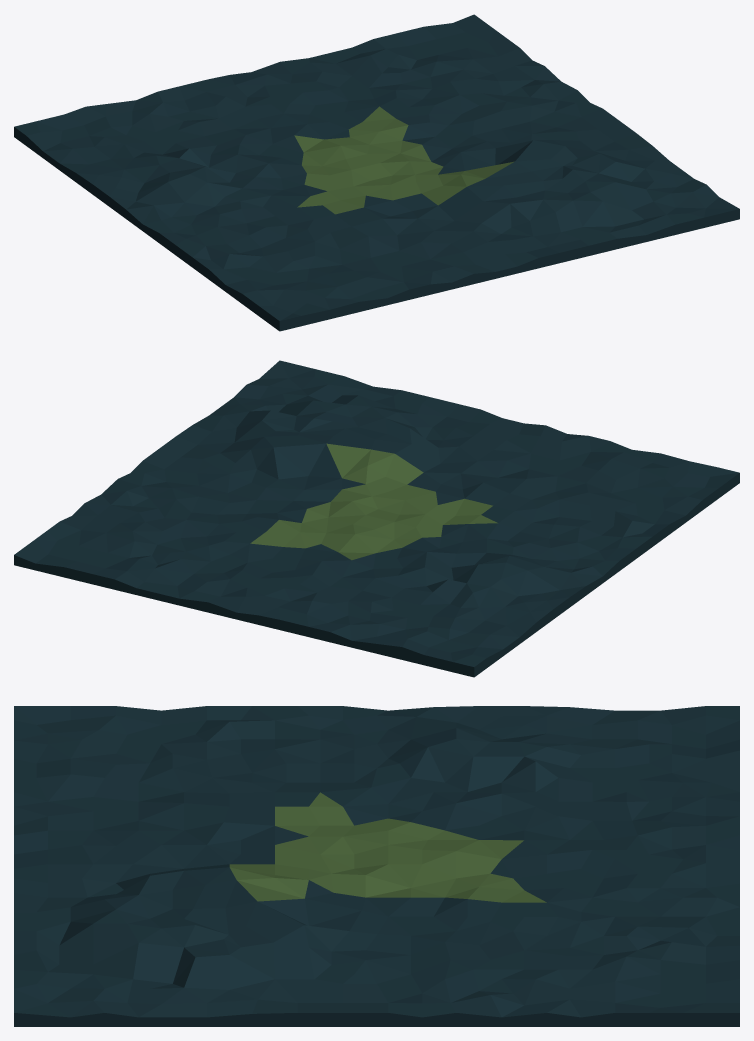
File: Floor.fbx
The picture shows the model from 3 angles, top to bottom: view 1: azimuth 30°, elevation 25°; view 2: azimuth 150°, elevation 25°; view 3: azimuth 270°, elevation 25°; orthographic projection. The views are drawn at different scales.
Visible parts, largest first — view 1: Cube; view 2: Cube; view 3: Cube.
Part boxes in pixels (box(x1,y1,x2,y2)): Cube: box(14, 14, 739, 331); Cube: box(14, 360, 739, 677); Cube: box(14, 706, 739, 1026).
Size of the model in its own units: 4004 by 213 by 4004.
